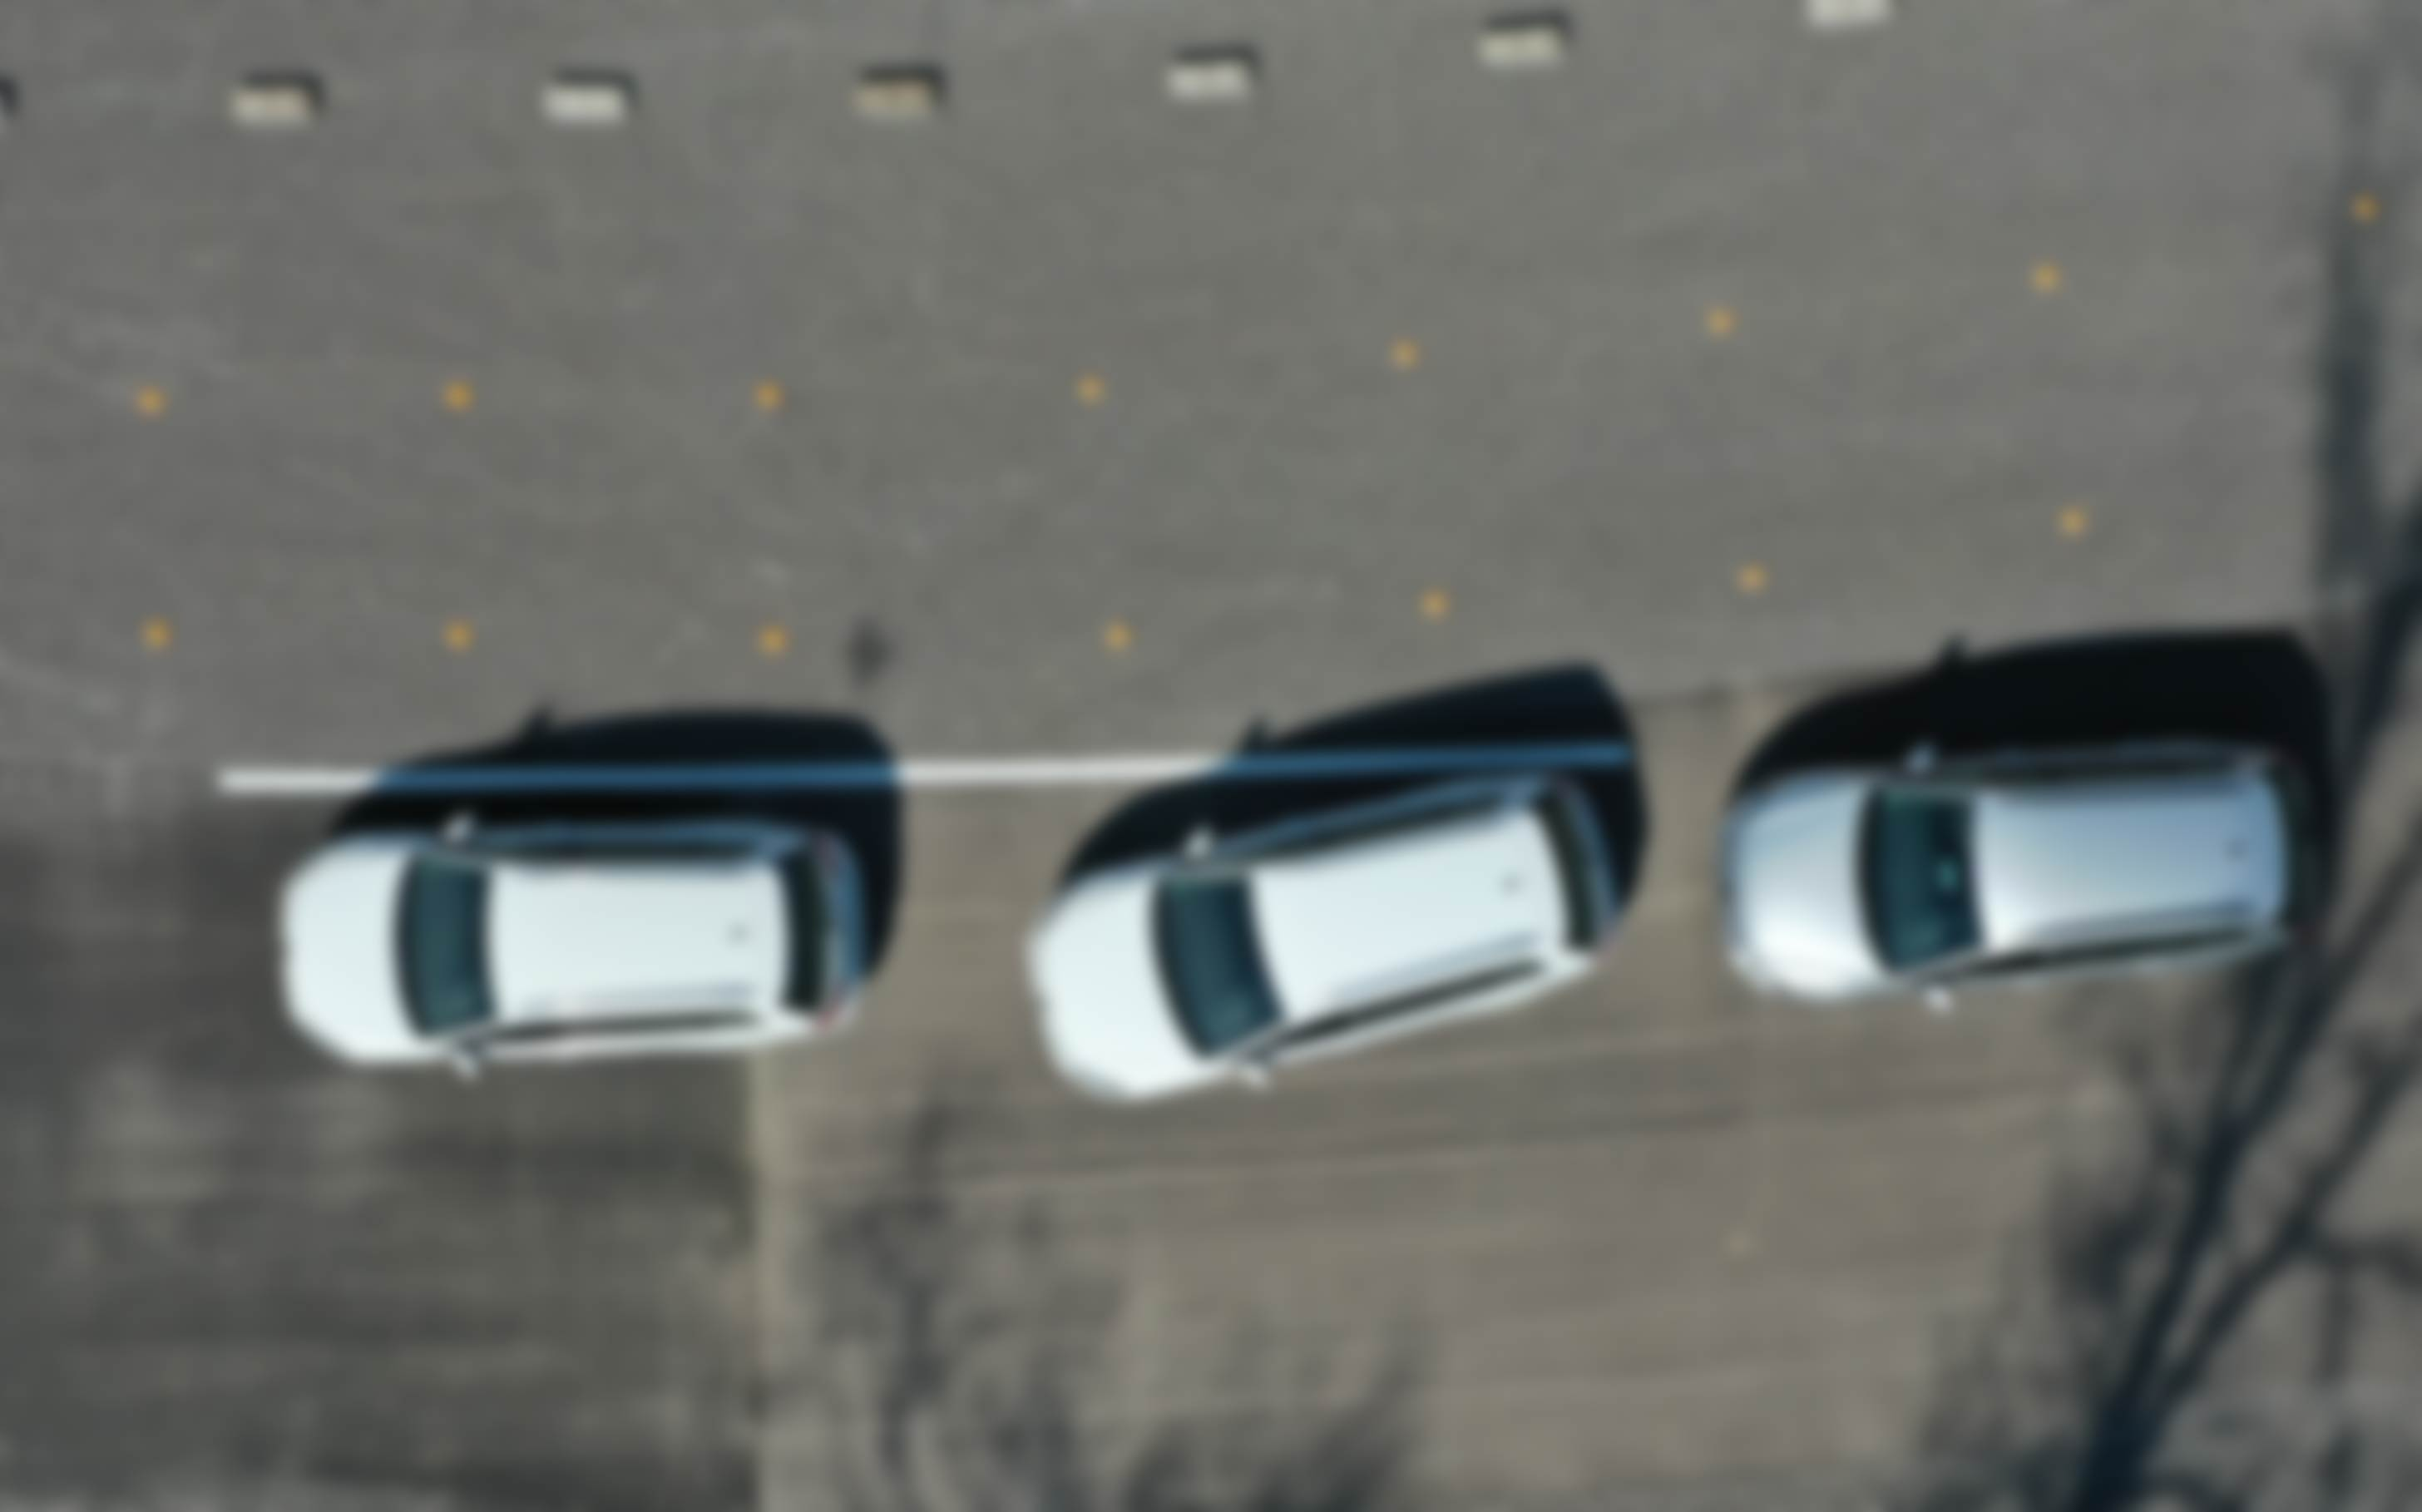Car: (1012, 775, 1635, 1124), (1713, 730, 2321, 1016), (261, 812, 885, 1077)
LaneMark: (214, 740, 1638, 801)
